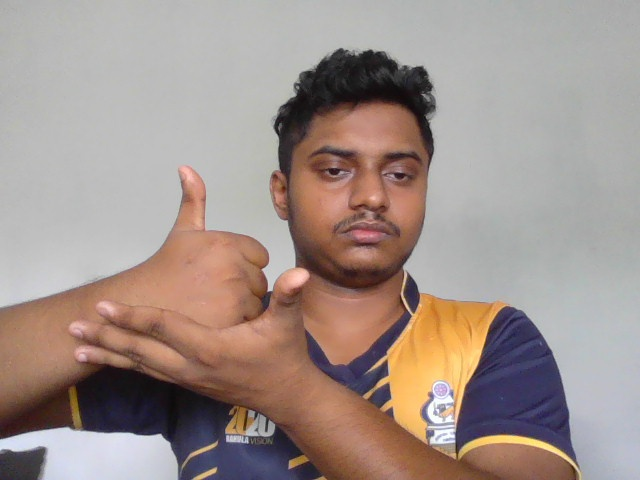Help: (66, 163, 314, 418)
